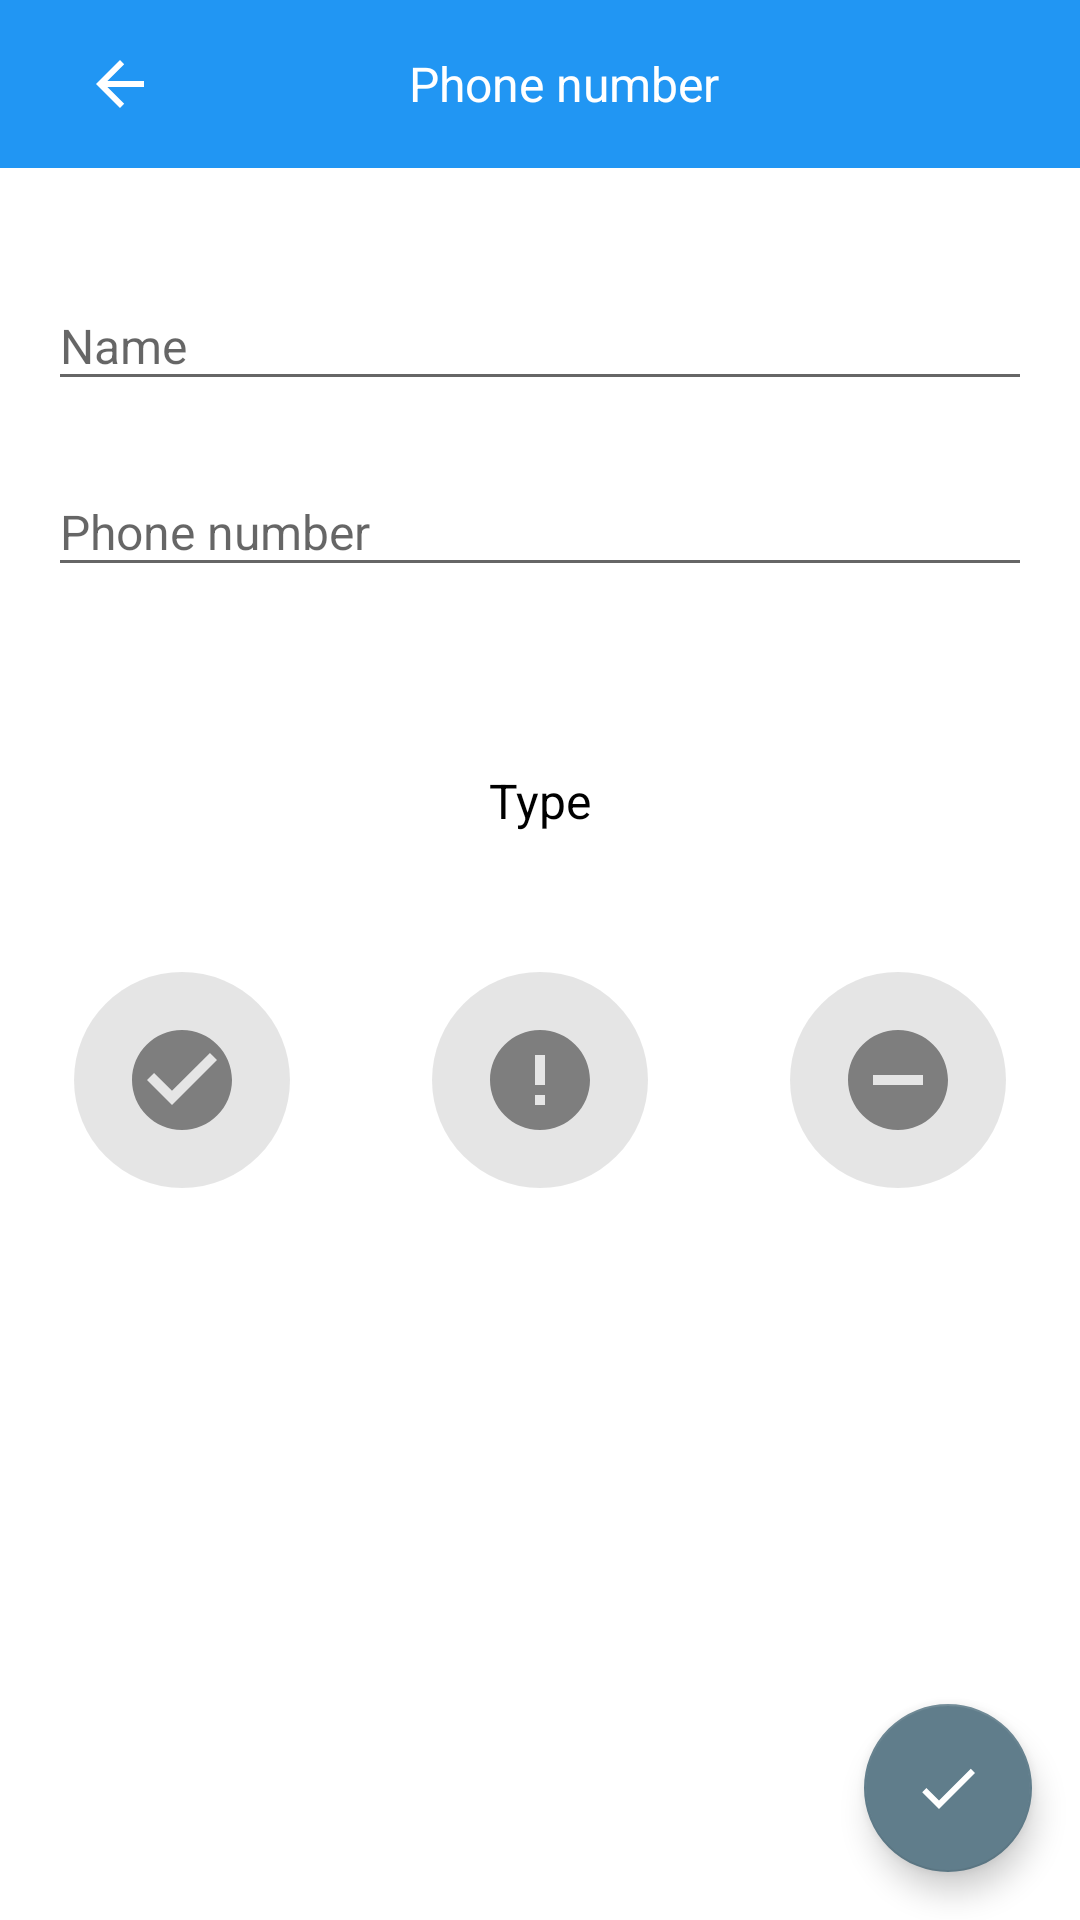

Where icons sit on this 1080 × 1920 app screen, as bbox=[x1, y1, x2, y2]:
back: bbox=[96, 60, 144, 108]
blocked circle: bbox=[790, 972, 1006, 1188]
save: bbox=[864, 1704, 1032, 1872]
suspicious circle: bbox=[432, 972, 648, 1188]
trusted circle: bbox=[74, 972, 290, 1188]
